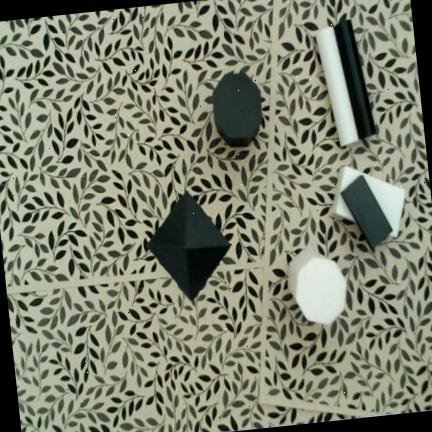Cilindro: (316, 26, 359, 147), (335, 19, 376, 138)
Paralelepipedo: (331, 166, 406, 238), (340, 176, 393, 248)
Piramide: (148, 192, 231, 301)
Prisma_hexagonal: (288, 250, 347, 325), (213, 72, 262, 146)
